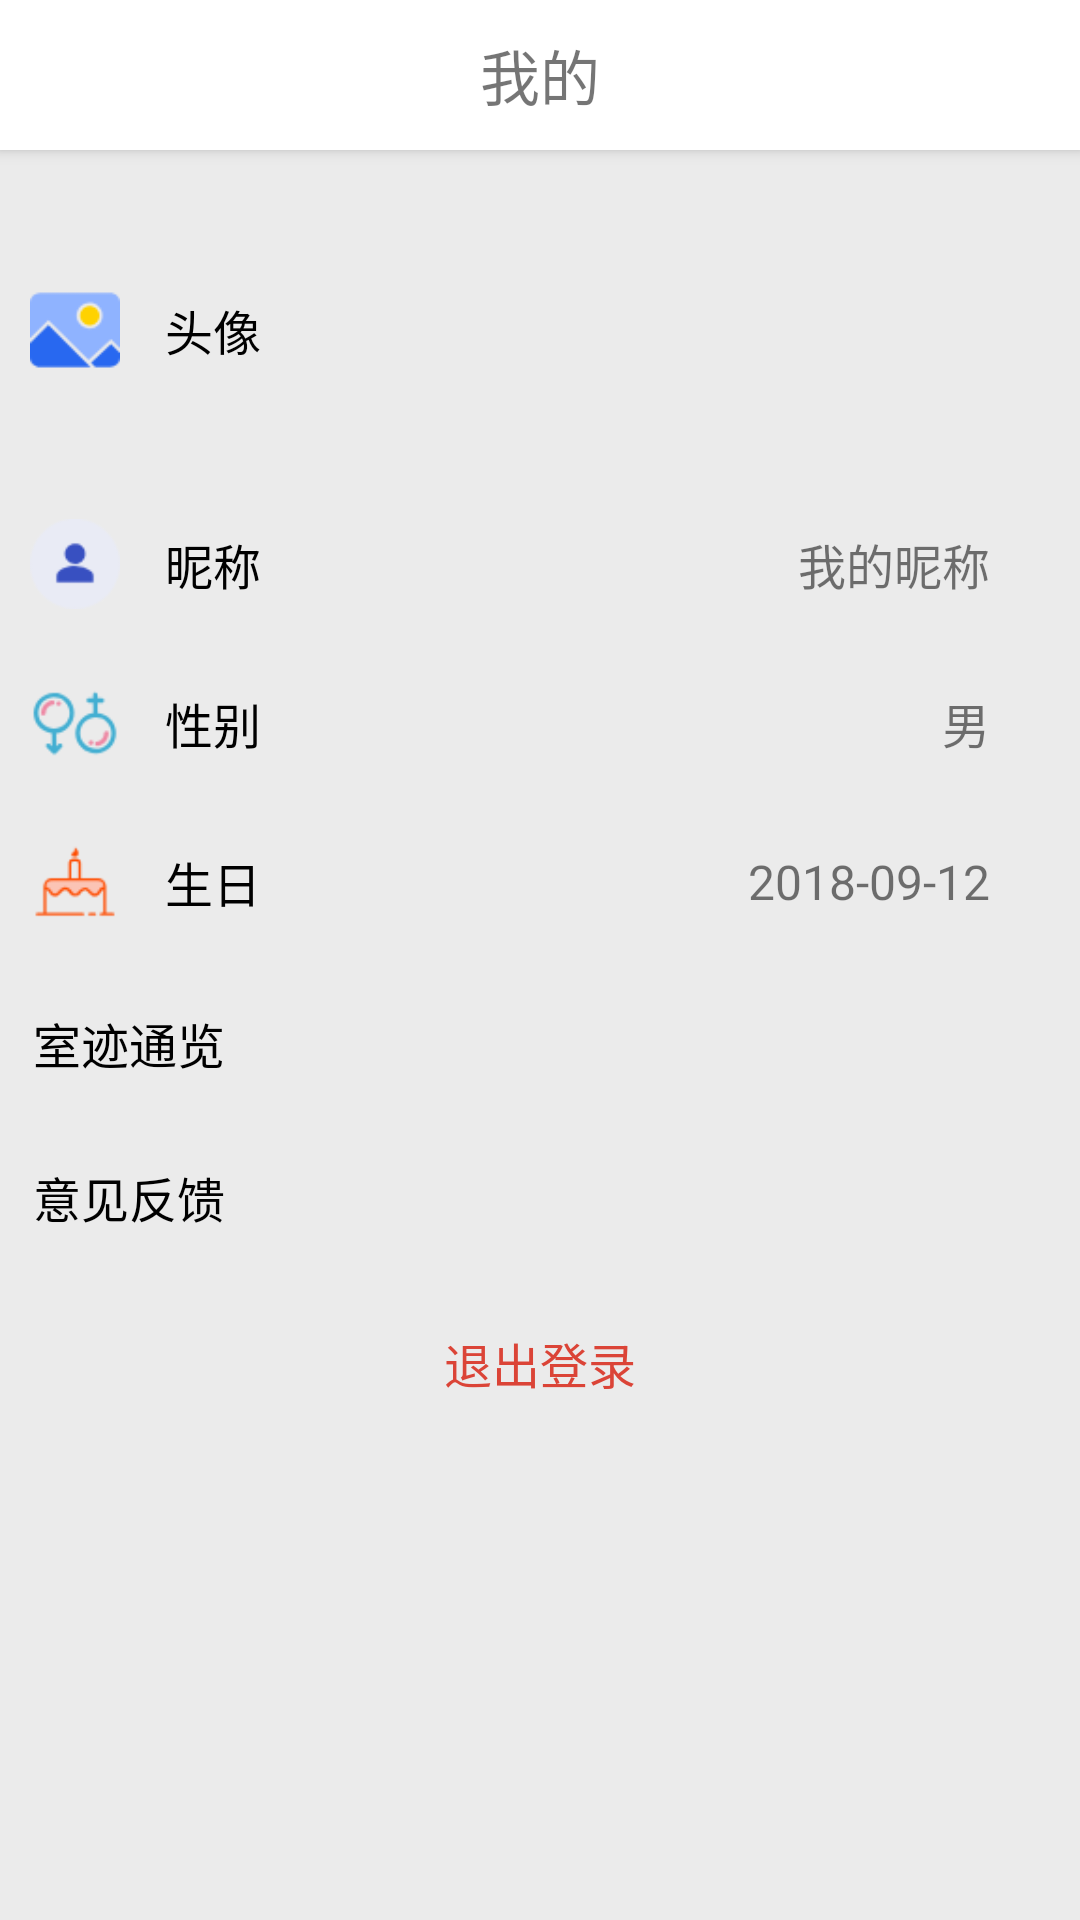

Locate icon controls on the screen. Image size 1080x1920, boxes as [x1, y1, x2, y2].
birthday: [35, 847, 115, 916]
gender: [33, 692, 117, 755]
nickname: [56, 543, 94, 583]
